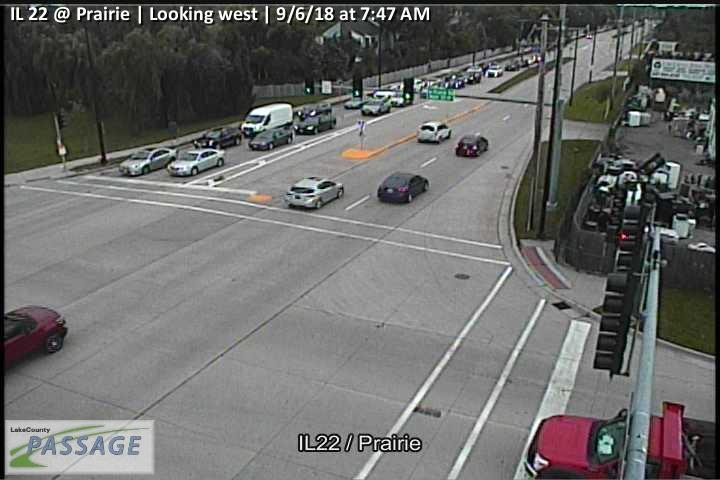SUV: (242, 102, 293, 136), (193, 126, 242, 149), (415, 120, 452, 143), (297, 101, 333, 120), (361, 96, 393, 115)
Sedan: (2, 304, 69, 364), (284, 176, 344, 210), (119, 145, 177, 176), (377, 170, 429, 202), (168, 148, 227, 176), (248, 127, 293, 150), (293, 114, 337, 134), (454, 133, 489, 156), (344, 96, 368, 109)
Truck: (521, 402, 720, 480)
